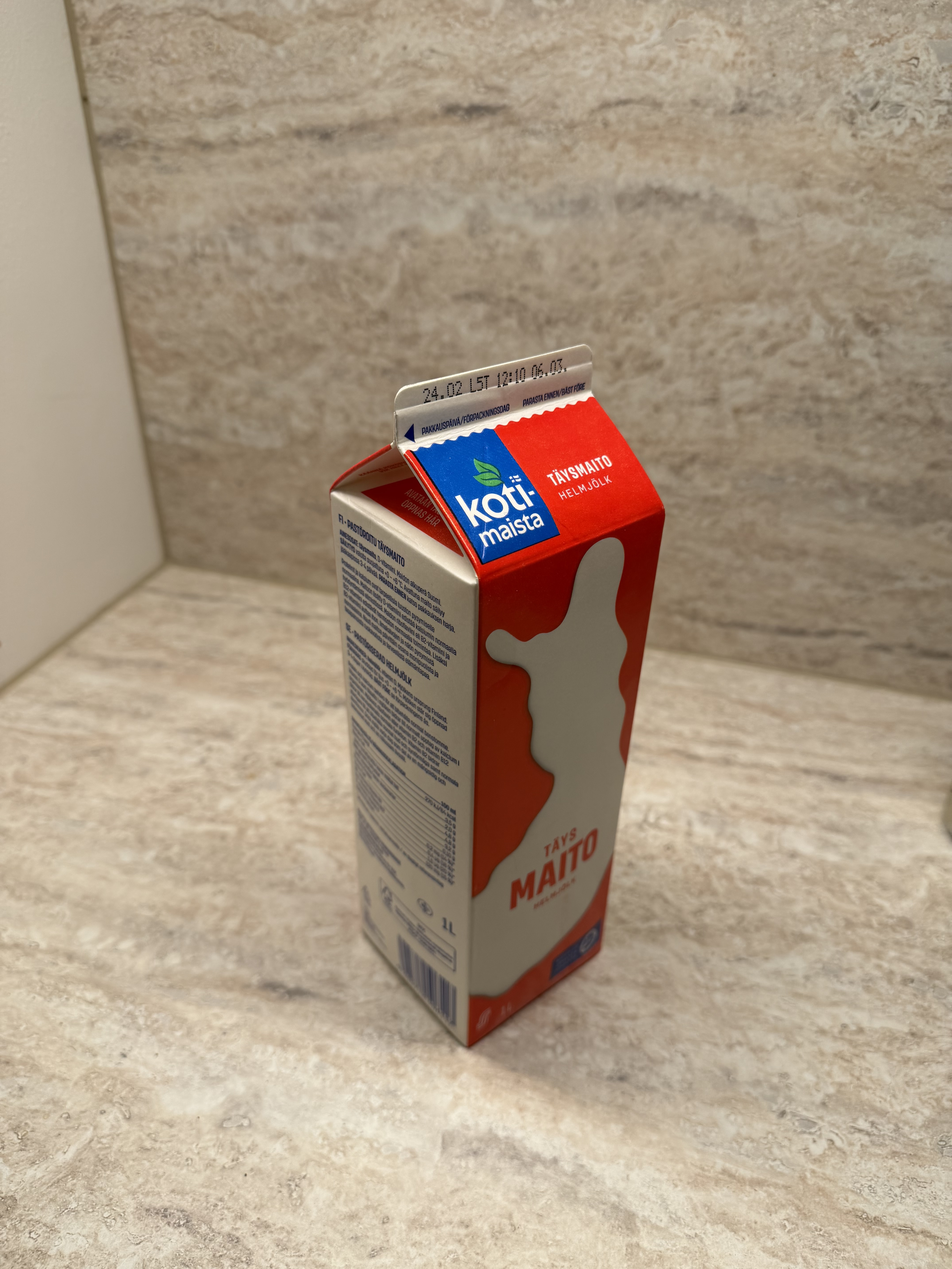Dryckeskartong: (303, 349, 674, 1055)
